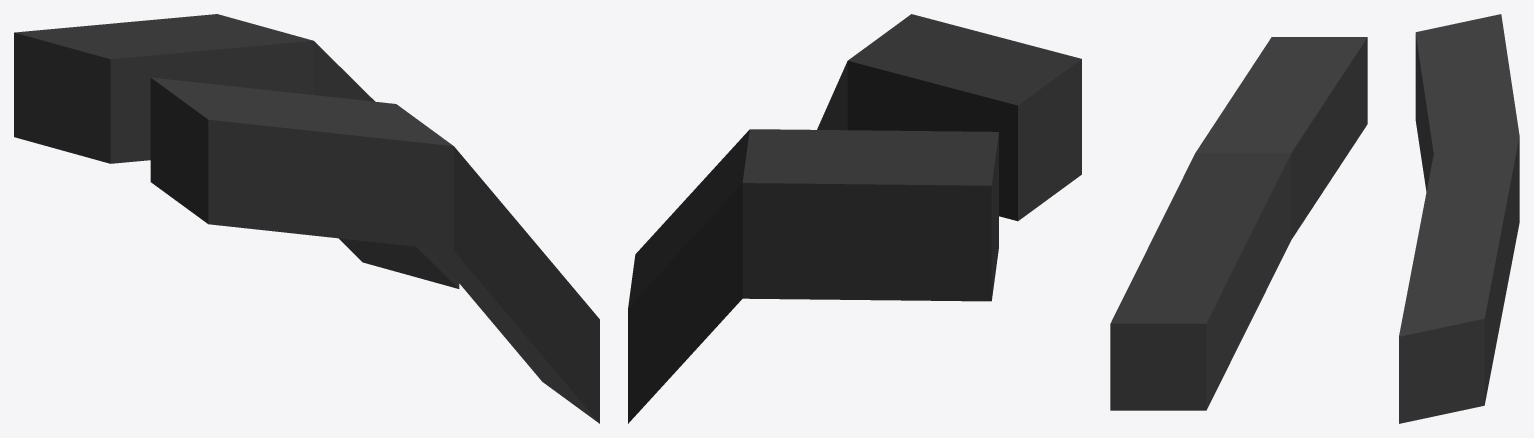
The model's file is LeftArm.obj.
The picture shows the model from 3 angles, left to right: view 1: azimuth 30°, elevation 25°; view 2: azimuth 150°, elevation 25°; view 3: azimuth 270°, elevation 25°; orthographic projection. The views are drawn at different scales.
Visible parts, largest first — view 1: 左前足.001; view 2: 左前足.001; view 3: 左前足.001.
Boxes of the visible parts, bbox=[...] form: 左前足.001: bbox=[14, 14, 599, 423]; 左前足.001: bbox=[628, 14, 1081, 423]; 左前足.001: bbox=[1110, 14, 1519, 423].
Bounding box in the file's own units: 0.7678 × 0.5837 × 0.8519.
